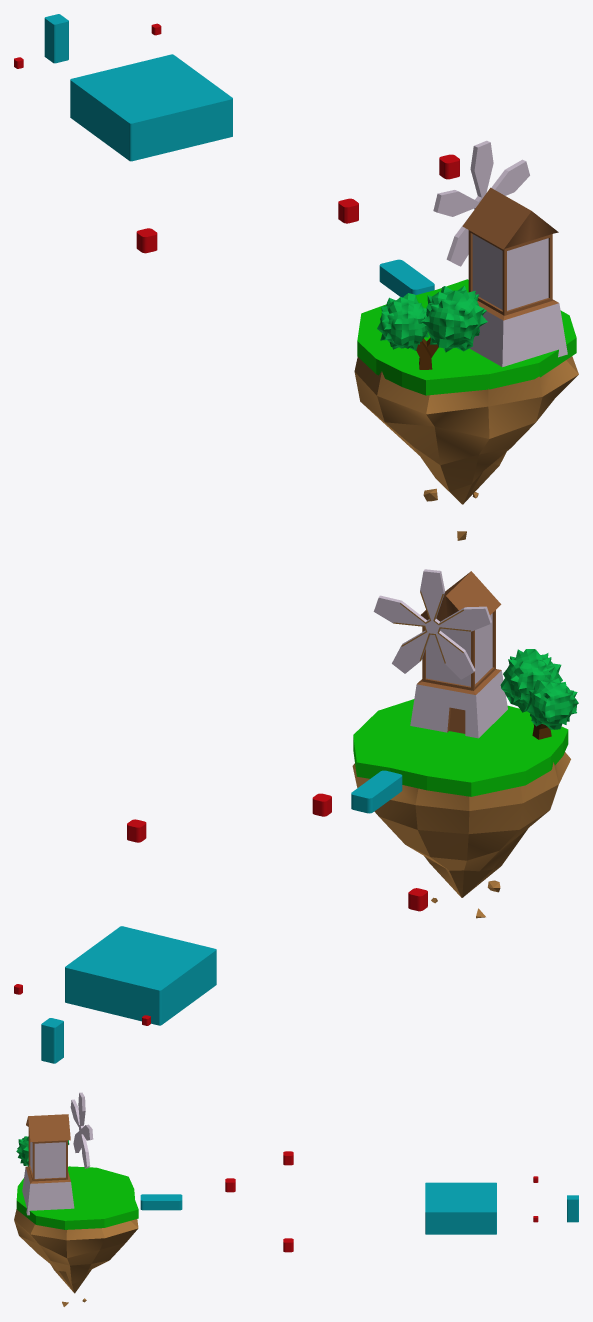
3 renders of one model, top to bottom at view 1: azimuth 30°, elevation 25°; view 2: azimuth 150°, elevation 25°; view 3: azimuth 270°, elevation 25°, orthographic. The views are drawn at different scales.
Visible parts, largest first — view 1: Tree, 立方体.009, 立方体.046, 立方体; view 2: Tree, 立方体.009, 立方体.046, 立方体; view 3: Tree, 立方体.009, 立方体.046, 立方体.
Boxes of the visible parts, x1,y1,x2,y2 form: Tree: [354, 140, 578, 540]; 立方体.009: [70, 54, 232, 161]; 立方体.046: [379, 259, 434, 297]; 立方体: [44, 14, 68, 63]; Tree: [352, 569, 578, 918]; 立方体.009: [65, 926, 216, 1025]; 立方体.046: [351, 770, 402, 813]; 立方体: [41, 1018, 63, 1063]; Tree: [14, 1092, 138, 1306]; 立方体.009: [425, 1182, 496, 1234]; 立方体.046: [140, 1194, 182, 1210]; 立方体: [567, 1195, 578, 1222].
Bounding box in the file's own units: 815 × 923 × 2131.
